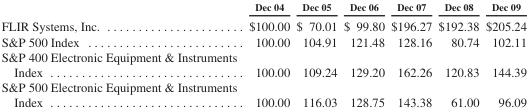table: (0, 0, 525, 109)
table column: (0, 0, 242, 109), (242, 0, 292, 109), (339, 0, 387, 109), (292, 0, 339, 109), (387, 0, 434, 109), (434, 0, 481, 109), (481, 0, 525, 109)
table column header: (0, 0, 525, 15)
table row: (0, 48, 525, 79), (0, 79, 525, 109), (0, 15, 525, 33), (0, 0, 525, 15), (0, 33, 525, 48)
